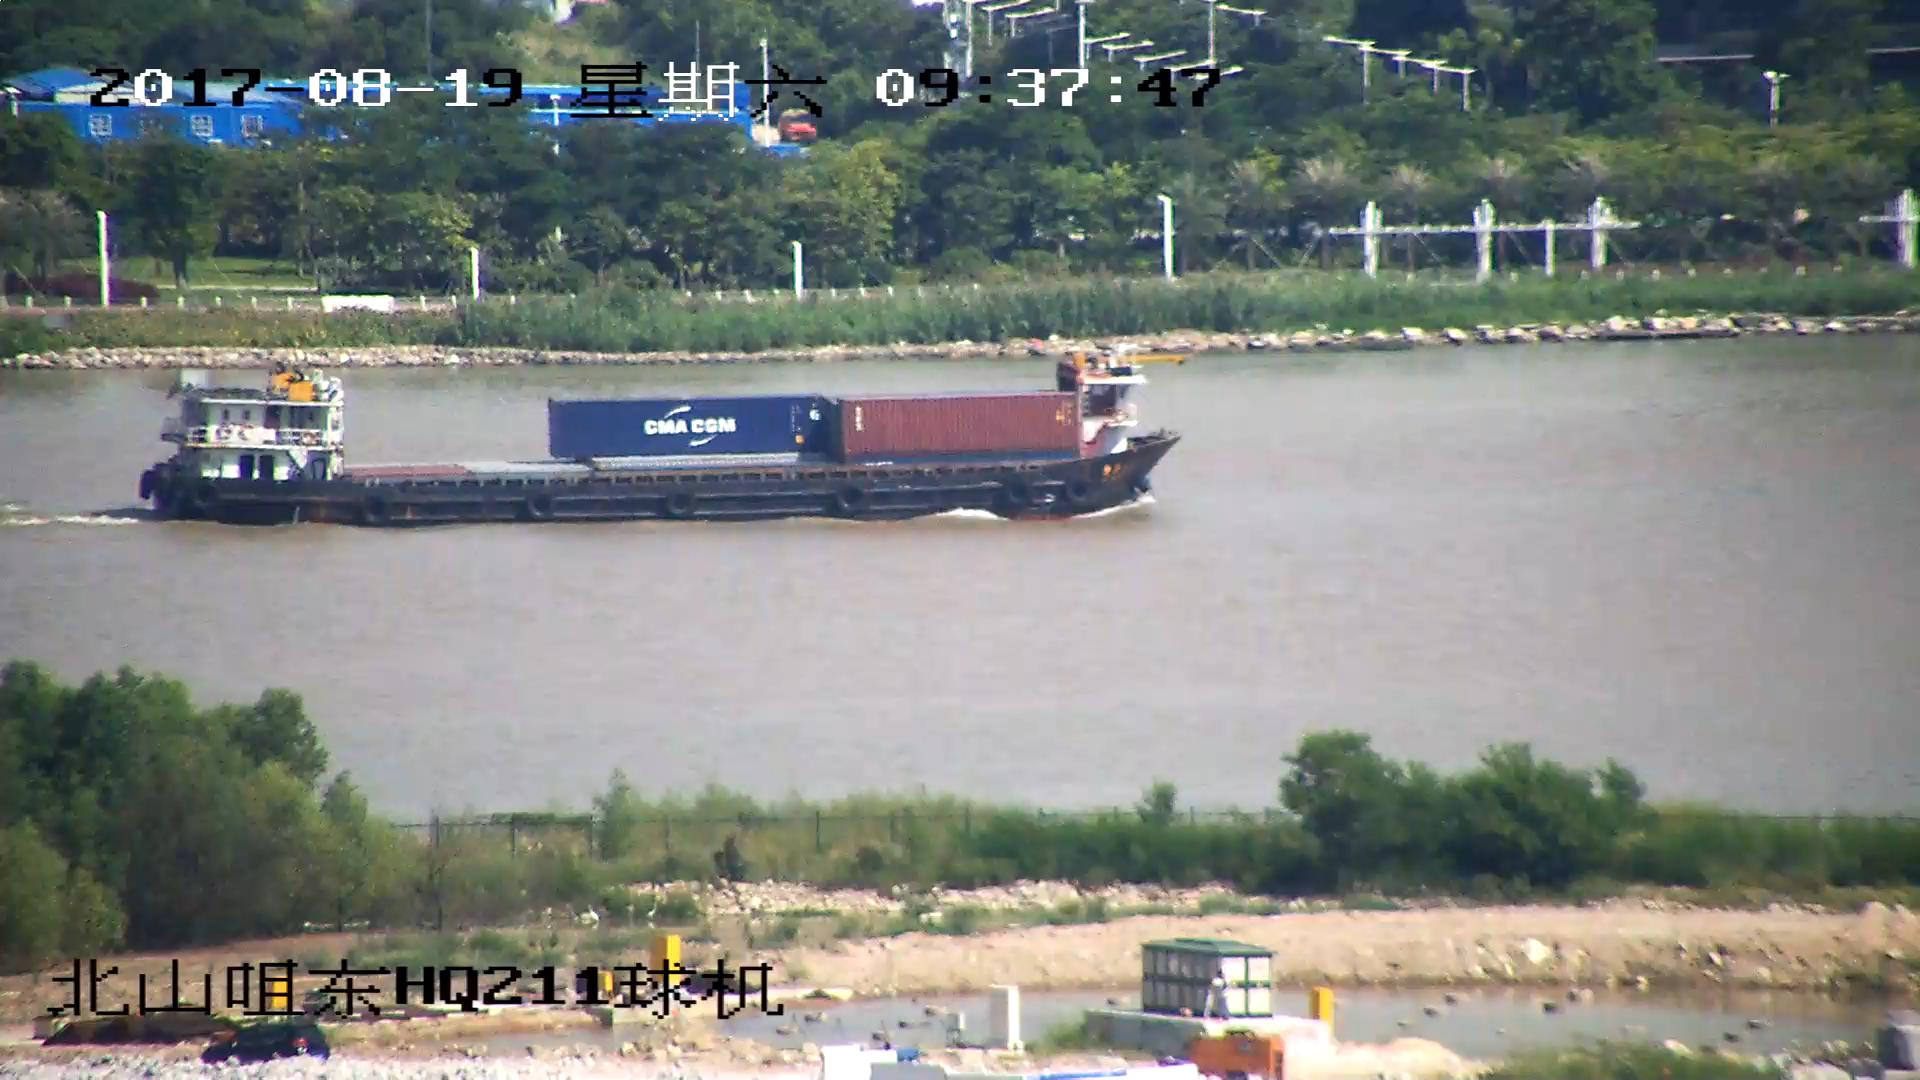container ship: (137, 354, 1186, 527)
